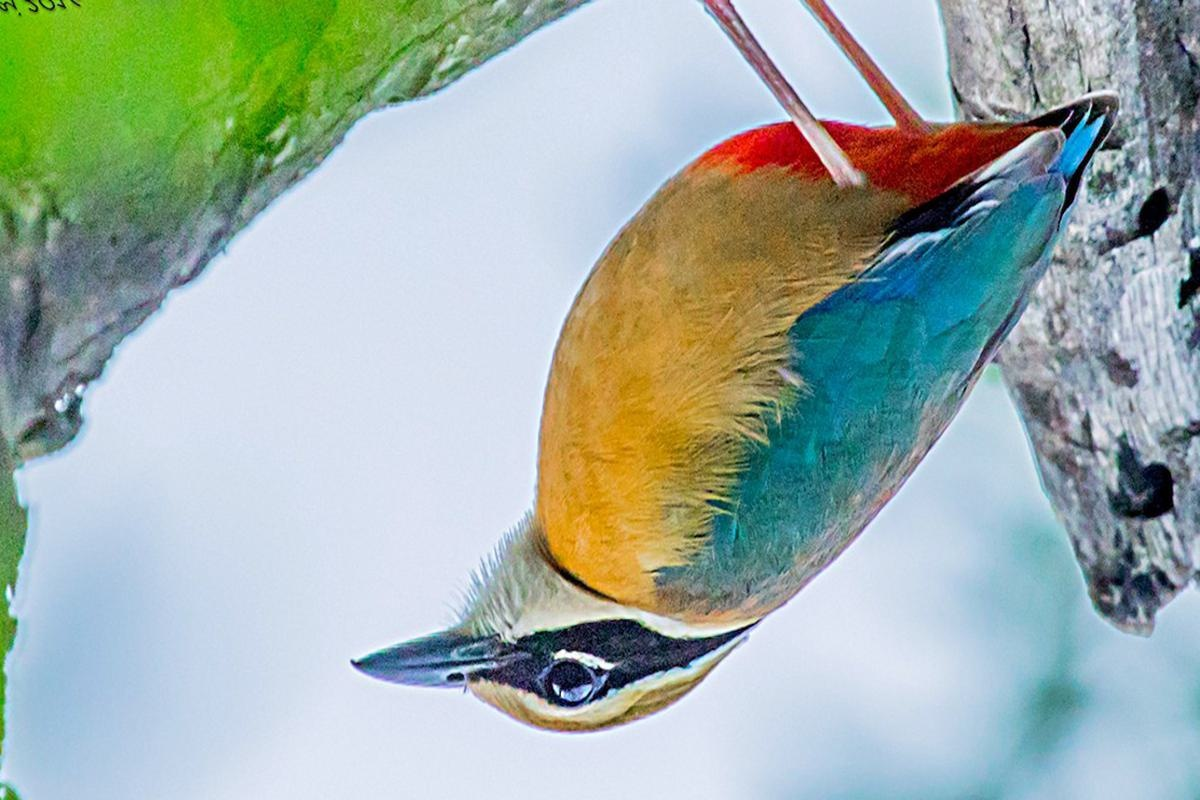pitta: (344, 27, 1100, 742)
